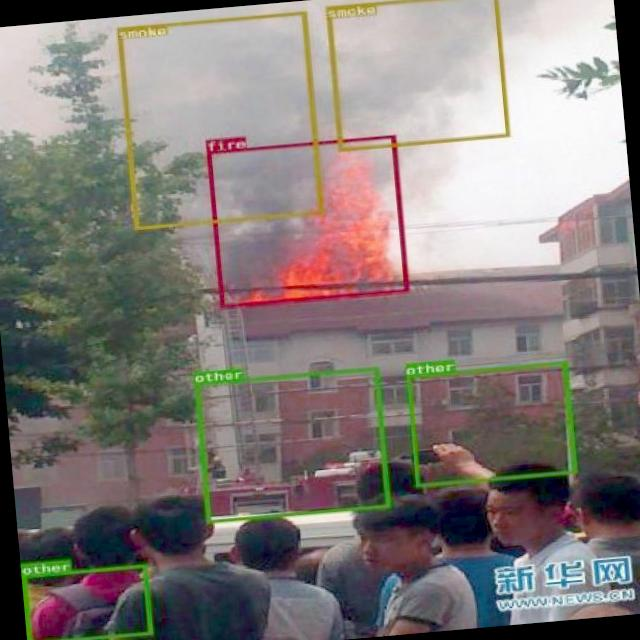fire: (206, 134, 408, 308)
smoke: (115, 10, 323, 229), (324, 0, 507, 150)
